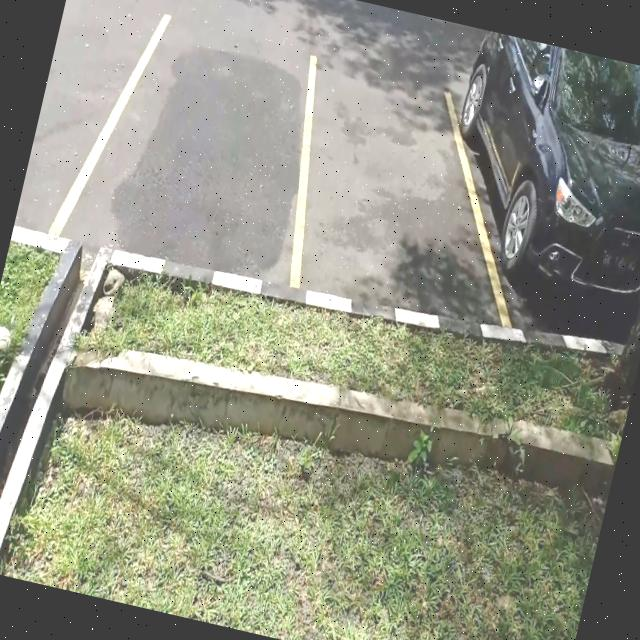empty: (75, 15, 330, 286), (270, 50, 496, 312)
occupied: (425, 30, 640, 355)
